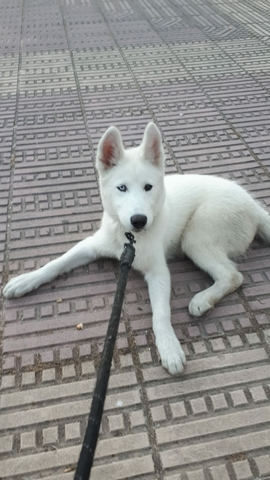husky: (76, 113, 189, 257)
